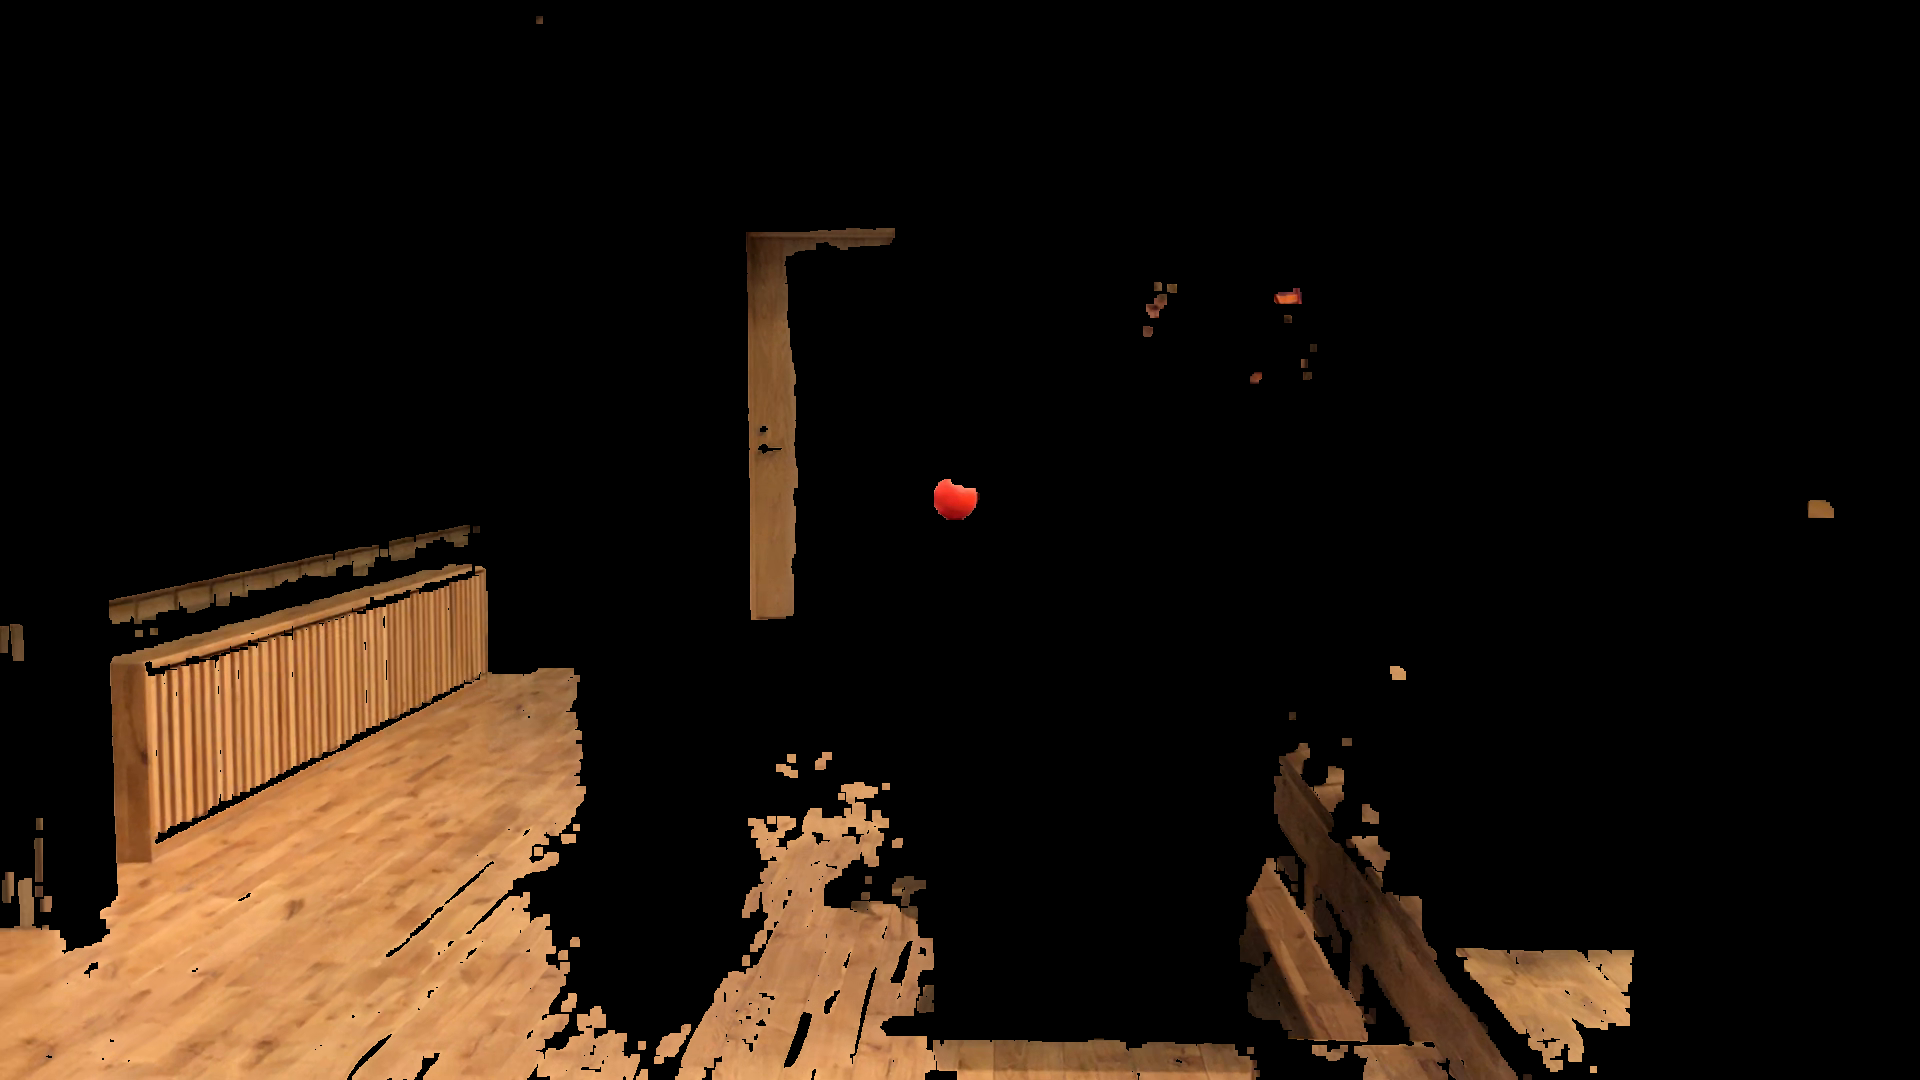Ball: (930, 476, 984, 520)
